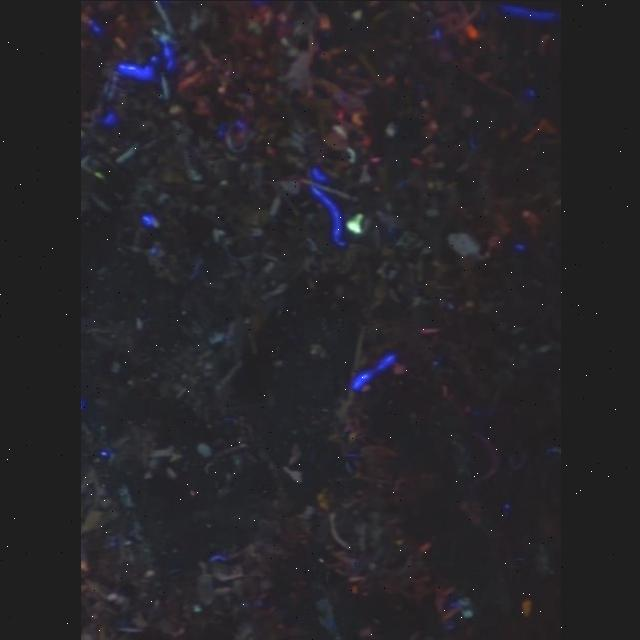microbeads: (344, 211, 364, 235)
